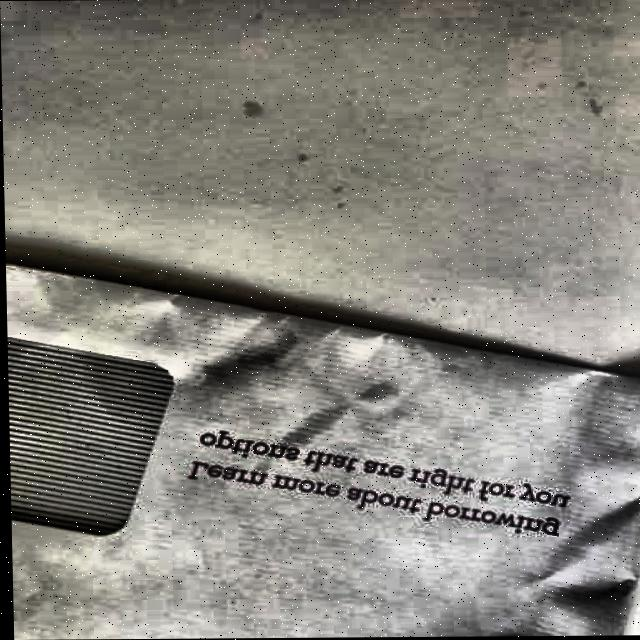paper: (6, 257, 640, 640)
